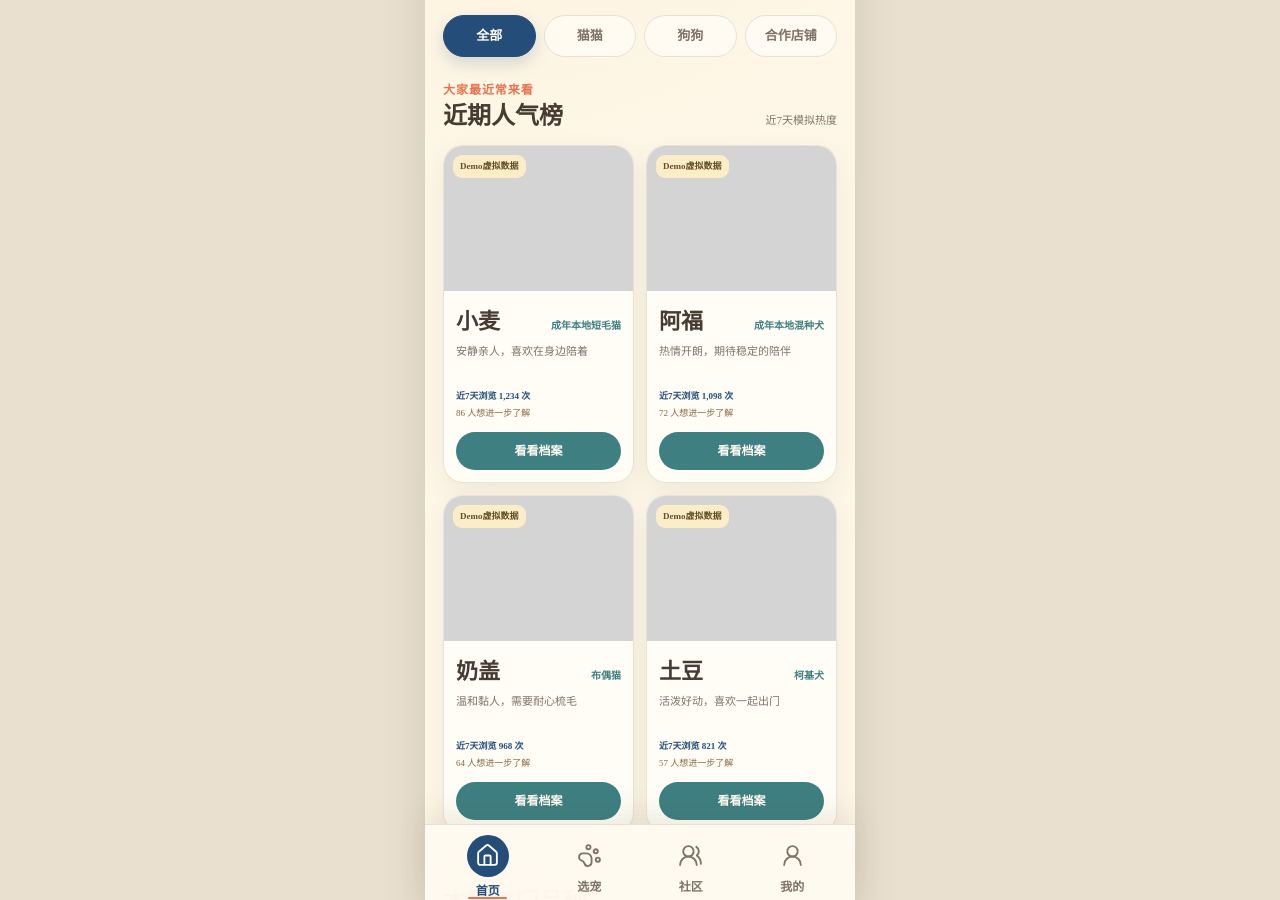
Test: 咕噜港首页 › 首页受限动作复用统一的未开放反馈
(page scrolled)
Click the button "看看档案" below "86".
click(538, 451)  # box [456,432,621,470]
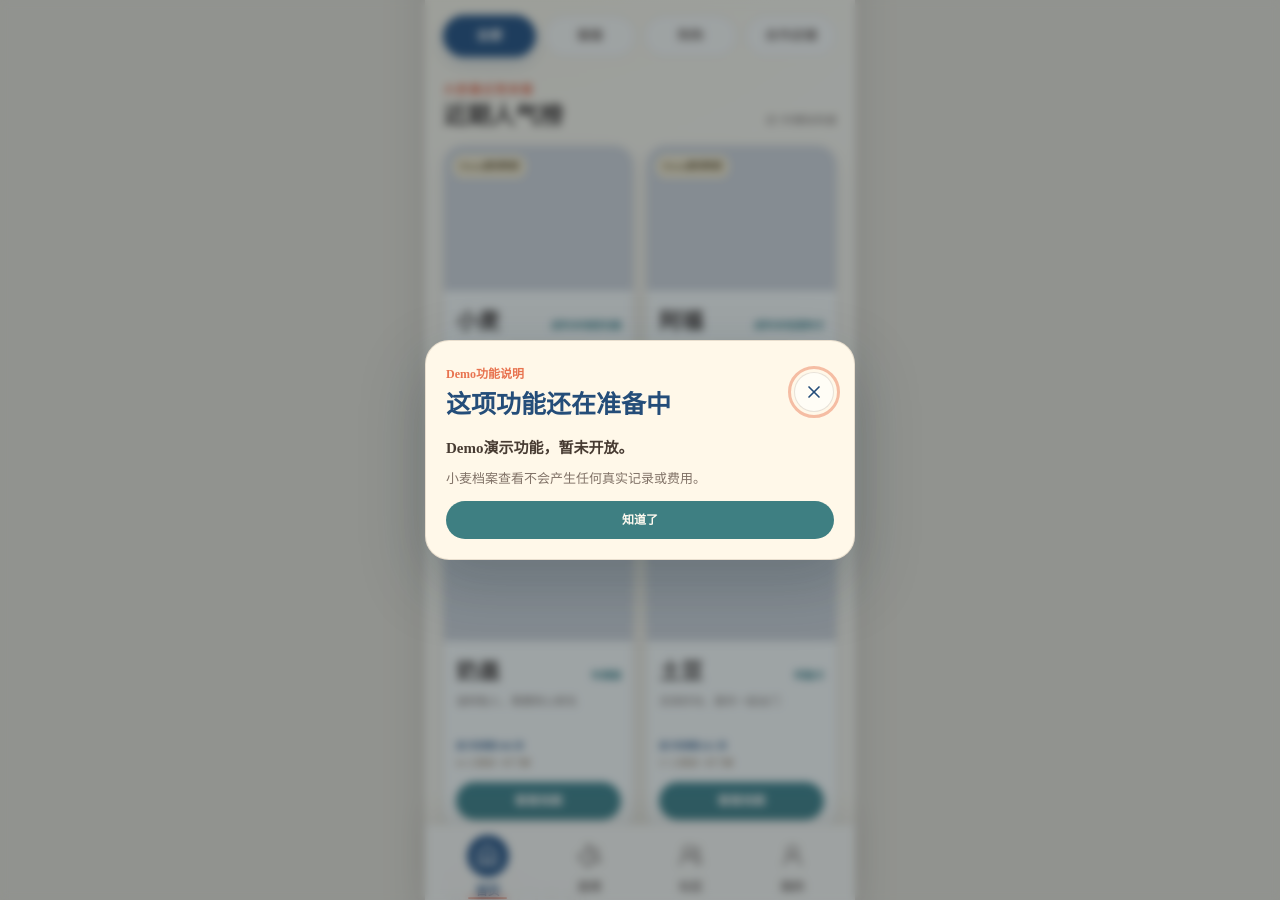
Expected: the dialog "这项功能还在准备中" shows "Demo演示功能，暂未开放。", [446,440,634,456]
